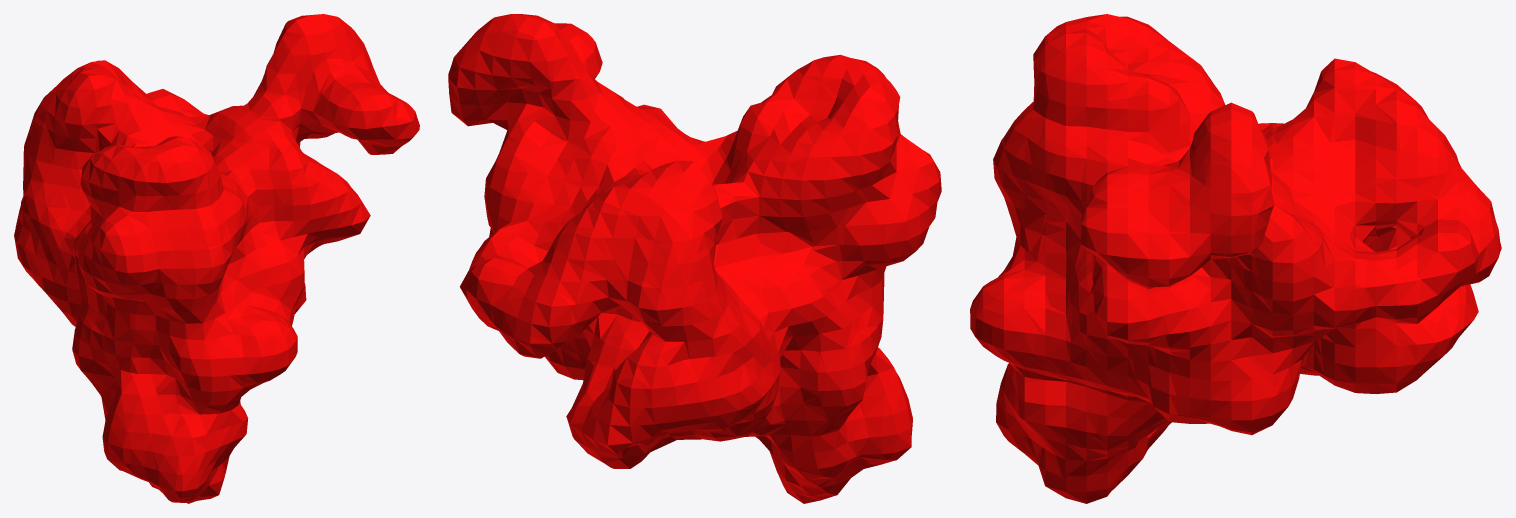
File: cvrA_coarse.dae
3 views of the same model, side by side, from view 1: azimuth 30°, elevation 25°; view 2: azimuth 150°, elevation 25°; view 3: azimuth 270°, elevation 25° (orthographic). The views are drawn at different scales.
Parts seen in each view (by area): view 1: cvrA; view 2: cvrA; view 3: cvrA.
Part boxes in pixels (x1,y1,x2,y2): cvrA: [14, 14, 419, 503]; cvrA: [448, 14, 941, 503]; cvrA: [970, 14, 1501, 503].
Size of the model in its own units: 74.29 by 82.71 by 79.82.
